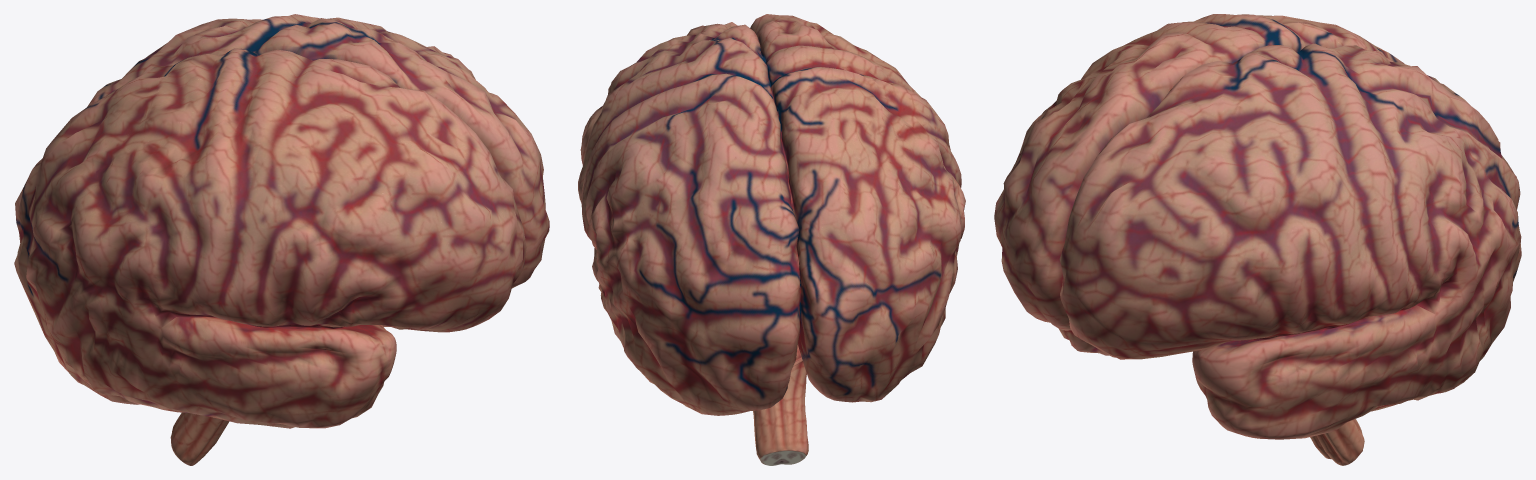
File: human_brain_cerebrum__brainstem.glb
3 renders of one model, left to right at view 1: azimuth 30°, elevation 25°; view 2: azimuth 150°, elevation 25°; view 3: azimuth 270°, elevation 25°, orthographic. The views are drawn at different scales.
Size of the model in its own units: 0.1666 by 0.1664 by 0.1749.
Materials: 1 (1 with a texture image).
